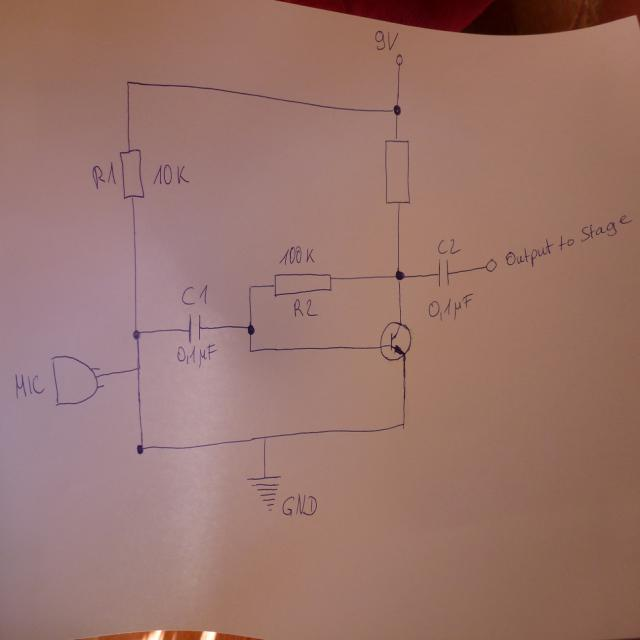capacitor: (184, 312, 204, 346), (435, 257, 450, 288)
ground: (246, 471, 282, 510)
junction: (392, 266, 407, 283), (130, 326, 143, 341), (134, 441, 147, 456), (391, 103, 402, 117), (397, 417, 407, 431), (246, 321, 254, 336), (133, 362, 142, 372), (260, 432, 269, 442), (246, 282, 253, 291), (124, 77, 131, 86), (247, 345, 253, 355)
resistor: (382, 138, 410, 208), (272, 268, 330, 296), (118, 147, 145, 199)
terminal: (483, 256, 498, 272), (394, 52, 404, 66)
text: (504, 212, 632, 266), (427, 292, 474, 323), (175, 341, 216, 367), (280, 490, 319, 517), (150, 162, 190, 186), (13, 369, 43, 399), (276, 245, 316, 267), (89, 160, 116, 189), (372, 26, 399, 52), (180, 282, 210, 305), (291, 296, 318, 319), (436, 236, 461, 255)
transistor: (377, 318, 413, 362)
